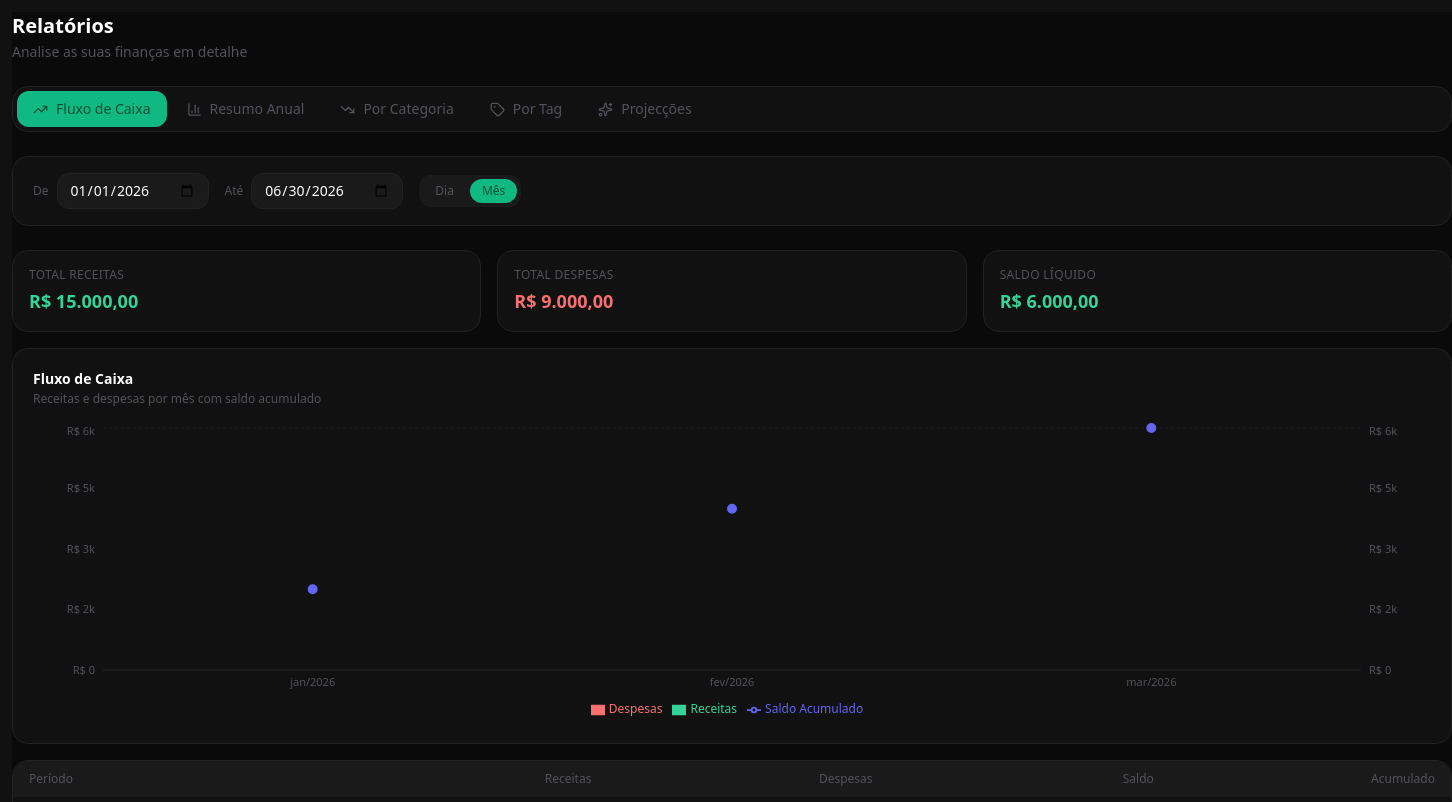
ReportsPage › deve não exibir filtros de período na tab Projecções
This screenshot has width=1452, height=802.
Click the button "Projecções".
click(645, 109)  # box [582,91,708,127]
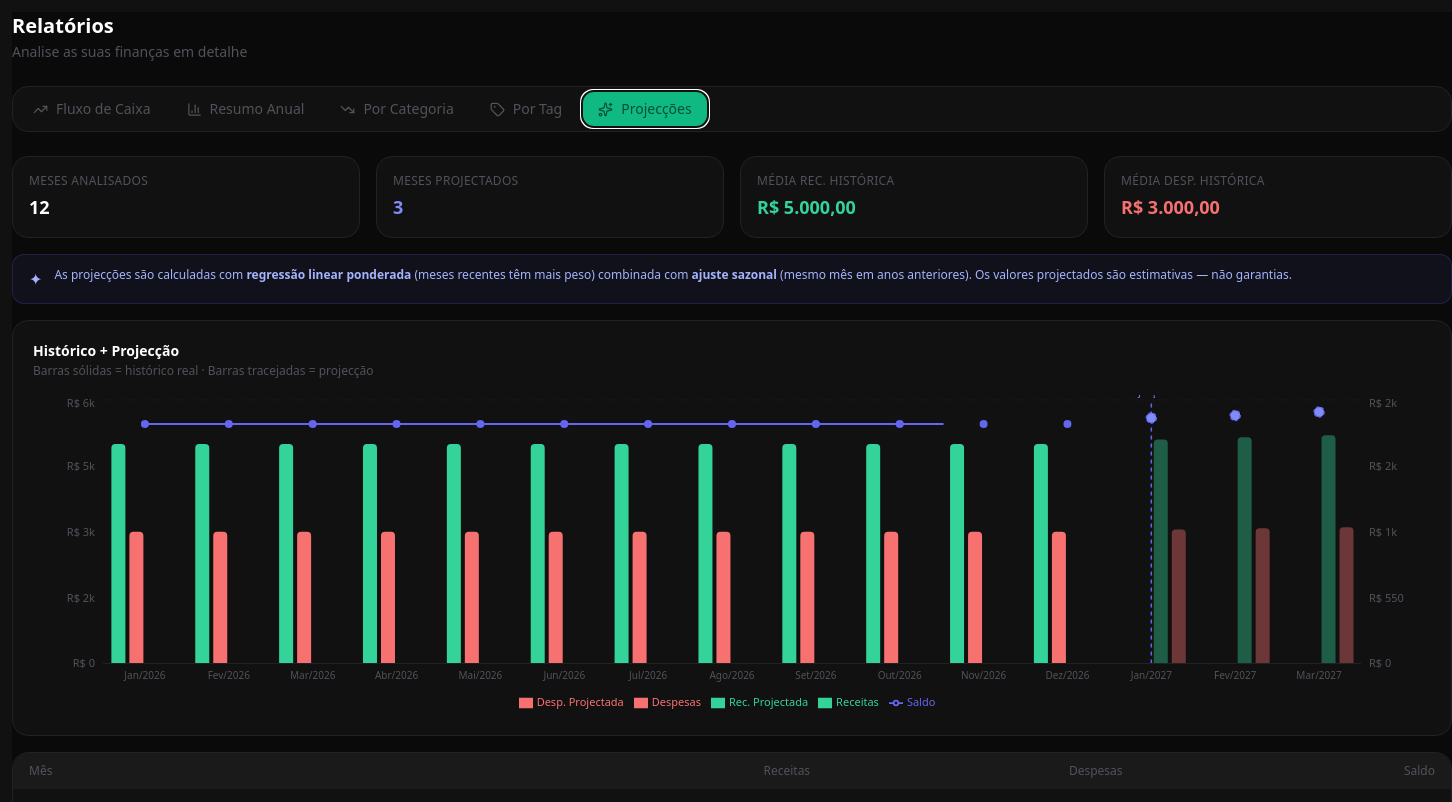
Check: the text "Até" is gone
